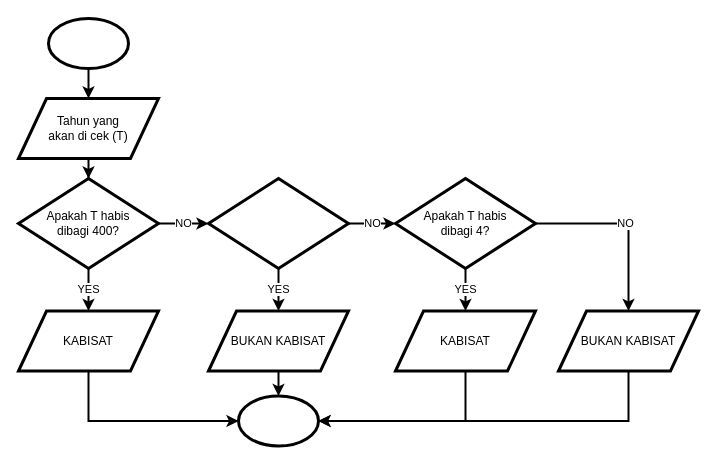
Image size: 717x465. Some labels were removed from this diagram. The centre of each missing label's shape, as x and y in pixels:
"Apakah T habis dibagi 100?" goes at (x=278, y=223).
"MULAI" goes at (x=88, y=43).
"SELESAI" goes at (x=278, y=420).
